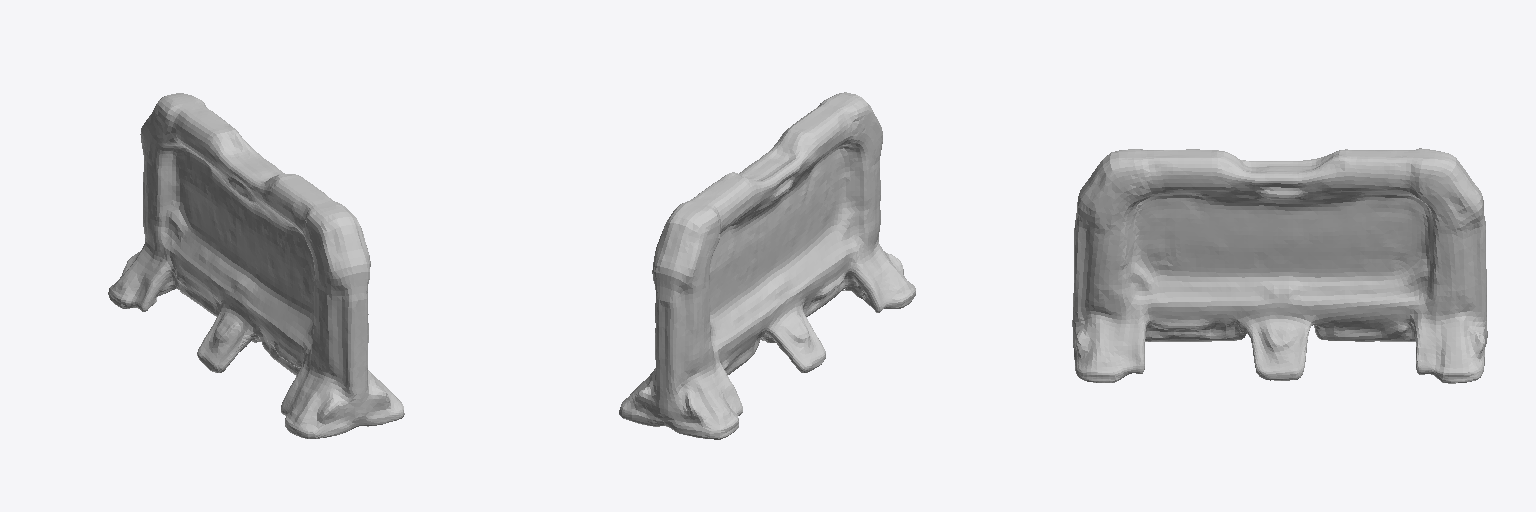
File: b58f238436a3_a_sci_fi_barrier_mi.obj
3 views of the same model, side by side, from view 1: azimuth 30°, elevation 25°; view 2: azimuth 150°, elevation 25°; view 3: azimuth 270°, elevation 25° (orthographic).
Visible parts, largest first — view 1: mesh; view 2: mesh; view 3: mesh.
Boxes of the visible parts, x1=… form: mesh: x1=108, y1=93, x2=404, y2=438; mesh: x1=619, y1=92, x2=915, y2=439; mesh: x1=1072, y1=148, x2=1487, y2=383.
Size of the model in its own units: 0.3015 by 0.5452 by 0.9988.